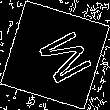M_SW: (22, 23, 88, 87)
